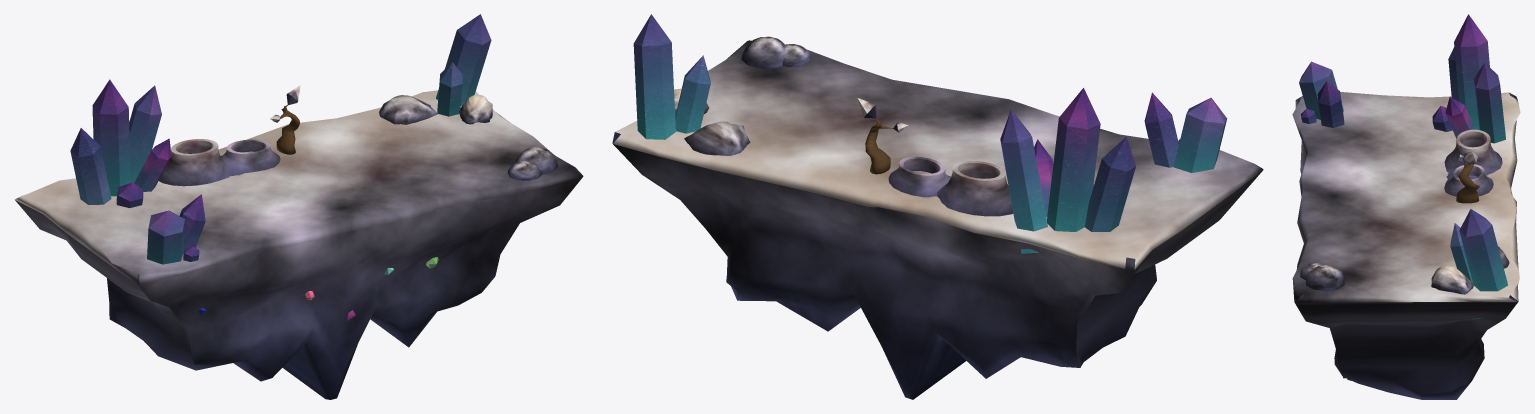
The model's file is envPlat2Long.fbx.
The picture shows the model from 3 angles, left to right: view 1: azimuth 30°, elevation 25°; view 2: azimuth 150°, elevation 25°; view 3: azimuth 270°, elevation 25°; orthographic projection. The views are drawn at different scales.
Visible parts, largest first — view 1: envPlatLng2Base, envCryCluserMid, envCryCluserTiny, envGeyser, envCryCluserSmall, envRock, envCryFlower; view 2: envPlatLng2Base, envCryCluserMid, envCryCluserTiny, envGeyser, envCryCluserSmall, envRock, envCryFlower; view 3: envPlatLng2Base, envCryCluserMid, envCryCluserTiny, envGeyser, envCryCluserSmall, envRock, envCryFlower.
Part boxes in pixels (x1,y1,x2,y2): envPlatLng2Base: (14,90,583,399); envCryCluserMid: (70,79,171,208); envCryCluserTiny: (379,14,492,124); envGeyser: (158,139,280,186); envCryCluserSmall: (147,194,205,264); envRock: (507,147,557,180); envCryFlower: (270,85,300,154); envPlatLng2Base: (612,40,1263,399); envCryCluserMid: (1000,88,1135,253); envCryCluserTiny: (633,14,750,155); envGeyser: (888,156,1013,216); envCryCluserSmall: (1144,92,1227,172); envRock: (741,36,811,68); envCryFlower: (857,98,908,174); envPlatLng2Base: (1292,92,1520,399); envCryCluserMid: (1432,14,1505,143); envCryCluserTiny: (1431,209,1509,319); envGeyser: (1444,129,1502,196); envCryCluserSmall: (1299,61,1344,127); envRock: (1300,263,1344,291); envCryFlower: (1456,151,1479,203).
Size of the model in its own units: 50.67 by 33.57 by 23.61.
